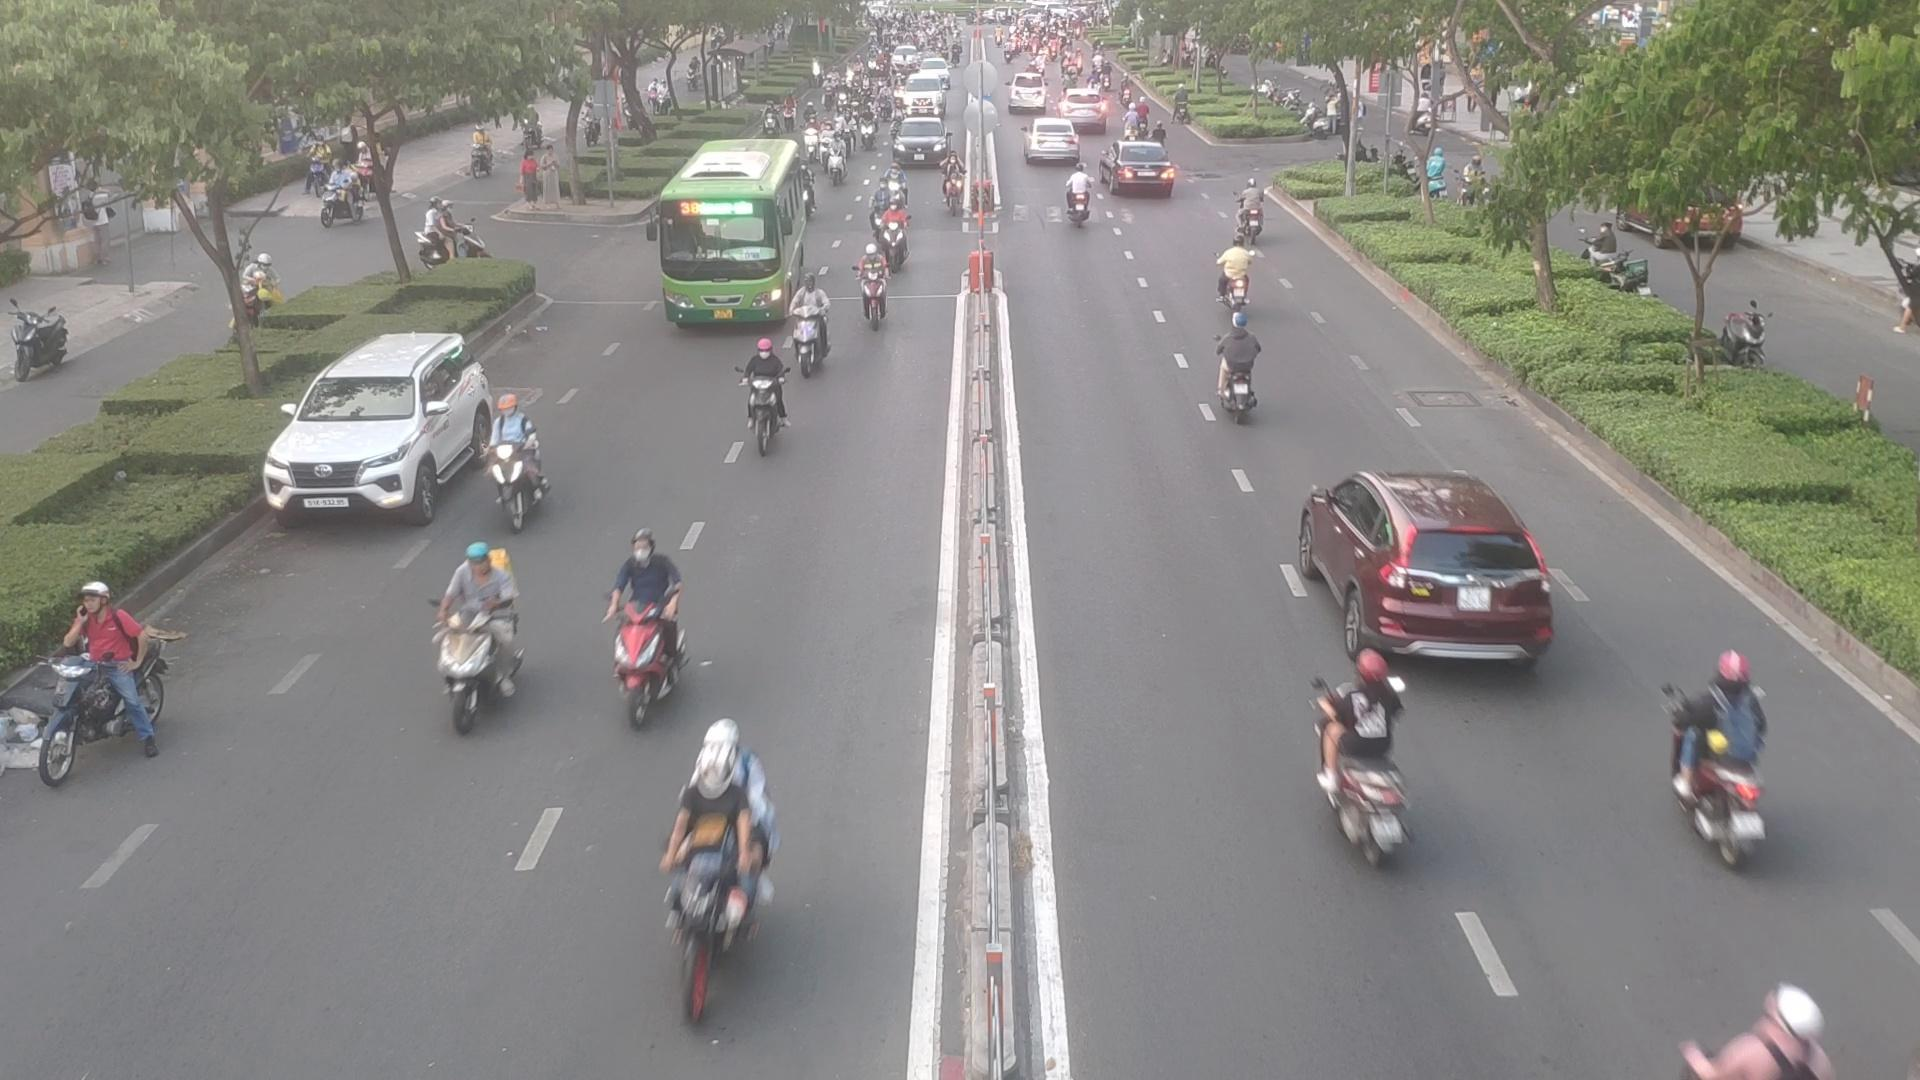bus: (642, 141, 804, 328)
car: (1290, 472, 1571, 669), (266, 331, 492, 529), (1098, 138, 1178, 196), (885, 119, 953, 167), (1023, 117, 1083, 164)
motorbike: (644, 737, 777, 1013), (12, 587, 173, 775), (1659, 691, 1775, 861), (1302, 720, 1412, 862), (605, 534, 687, 716), (434, 589, 526, 731), (477, 404, 547, 529), (433, 546, 520, 634), (733, 345, 791, 454), (1212, 320, 1271, 421), (791, 273, 839, 386), (855, 247, 893, 342), (1217, 243, 1259, 309), (866, 207, 909, 269), (1055, 170, 1097, 227), (1232, 190, 1273, 245)
